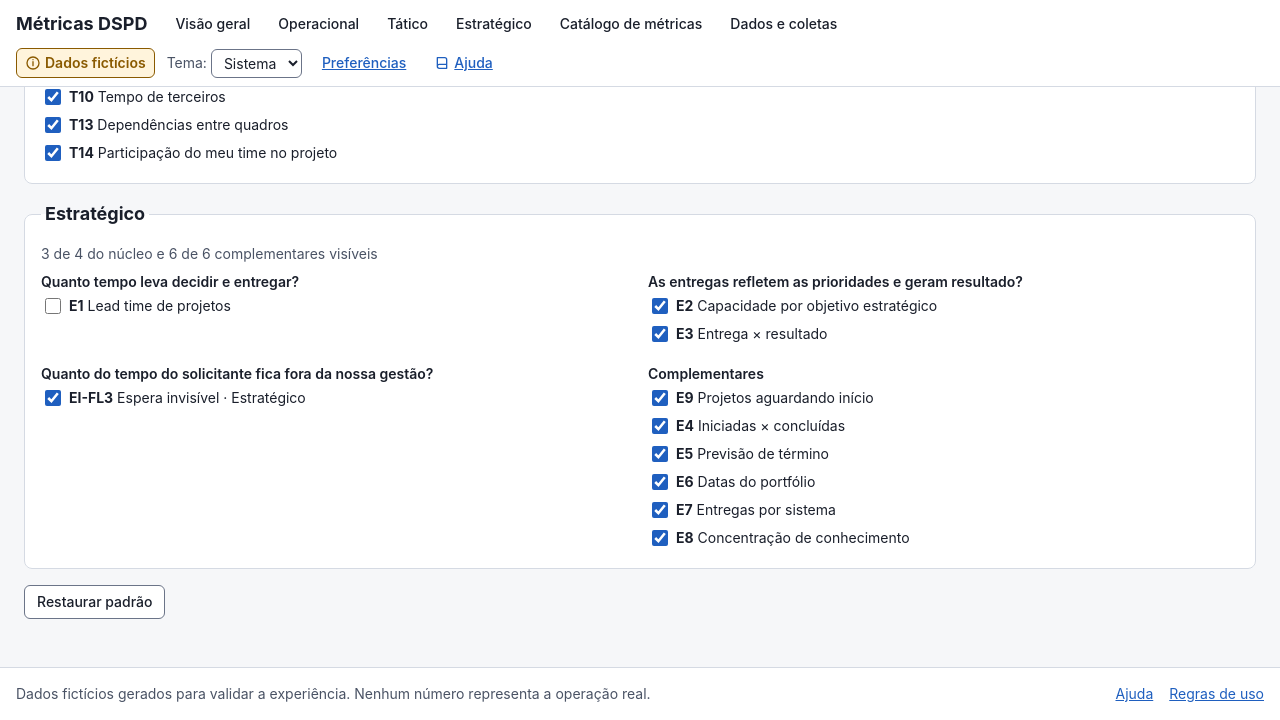
Catálogo de métricas (/metricas) › "Restaurar padrão" abre a seção na visita
(page scrolled)
Click the button "Restaurar padrão" at (95, 602), box [24,585,166,619]
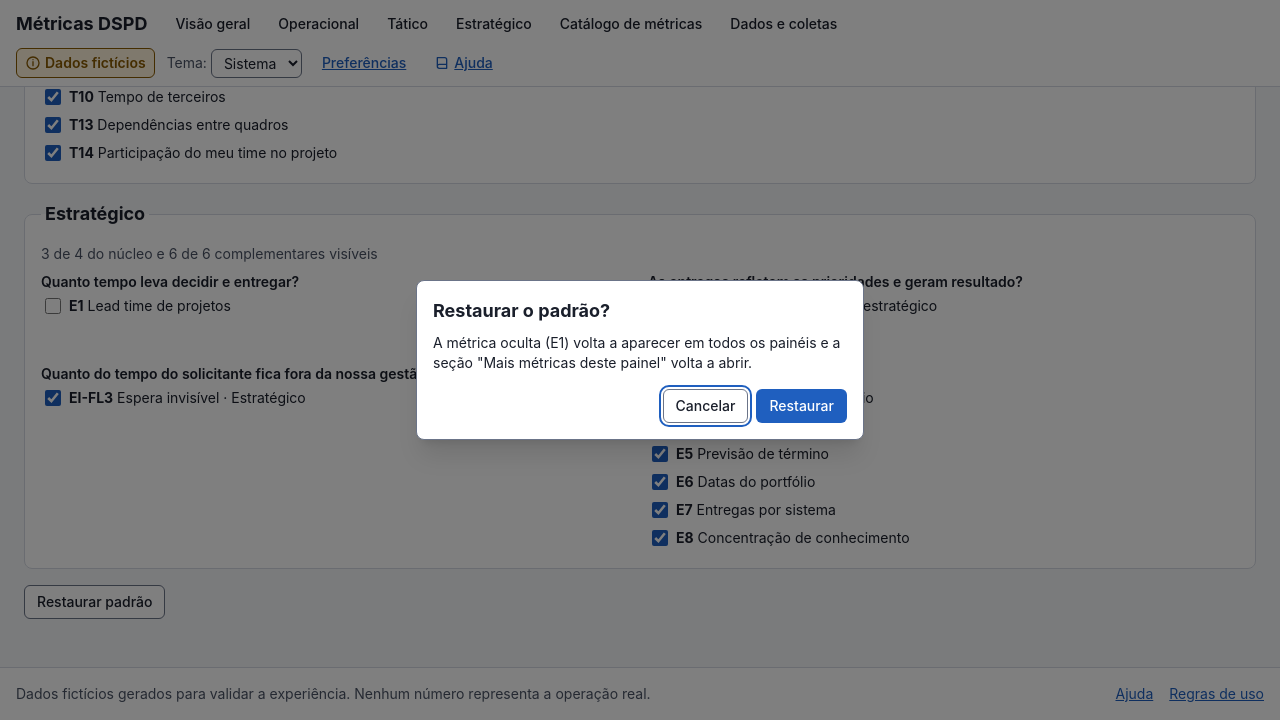
Click the button "Restaurar" at (802, 406), box [756,389,847,423]
(page scrolled)
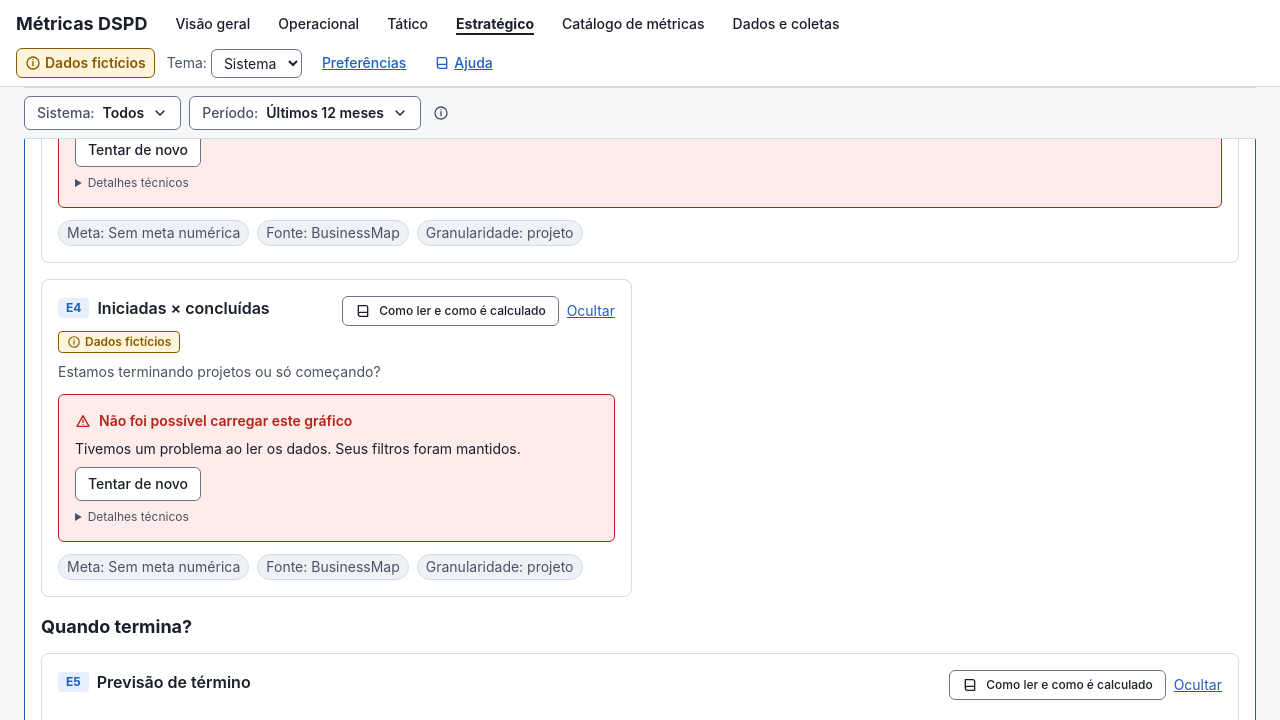
Now the element with test id "metrica-E4" is shown, box [41,279,632,597]
